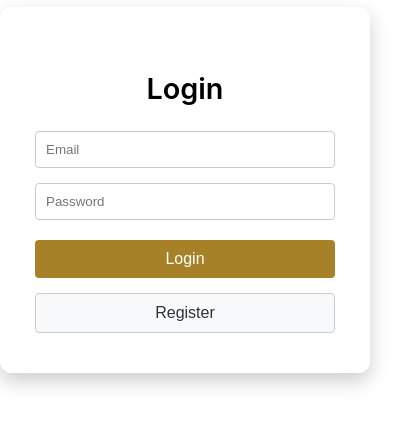
it: shows error on login failure
Type "bad@mail.com" into the field with placeholder "Email". click: (185, 149)
box: [35,131,335,168]
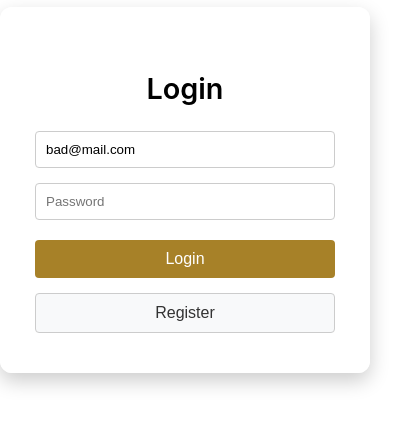
Type "wrong" into the password field with placeholder "Password". click: (185, 201)
box: [35,183,335,220]
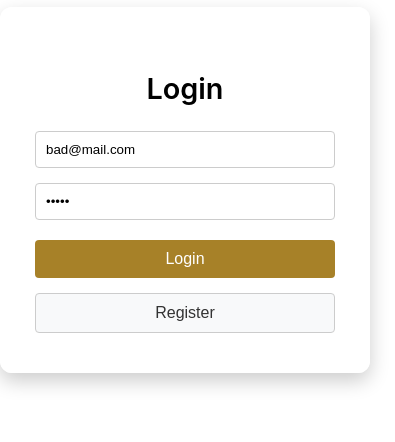
Click the button "Login". click: (185, 259)
box: [35,240,335,278]
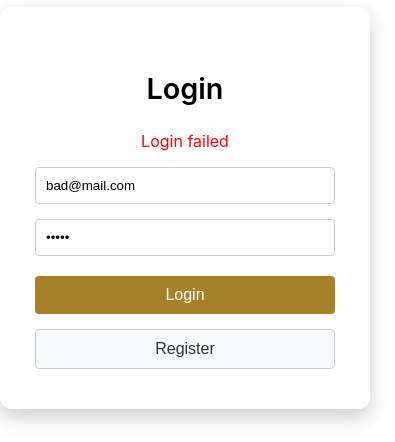
expect the text "Login failed" is shown: met, box [141,131,229,151]
